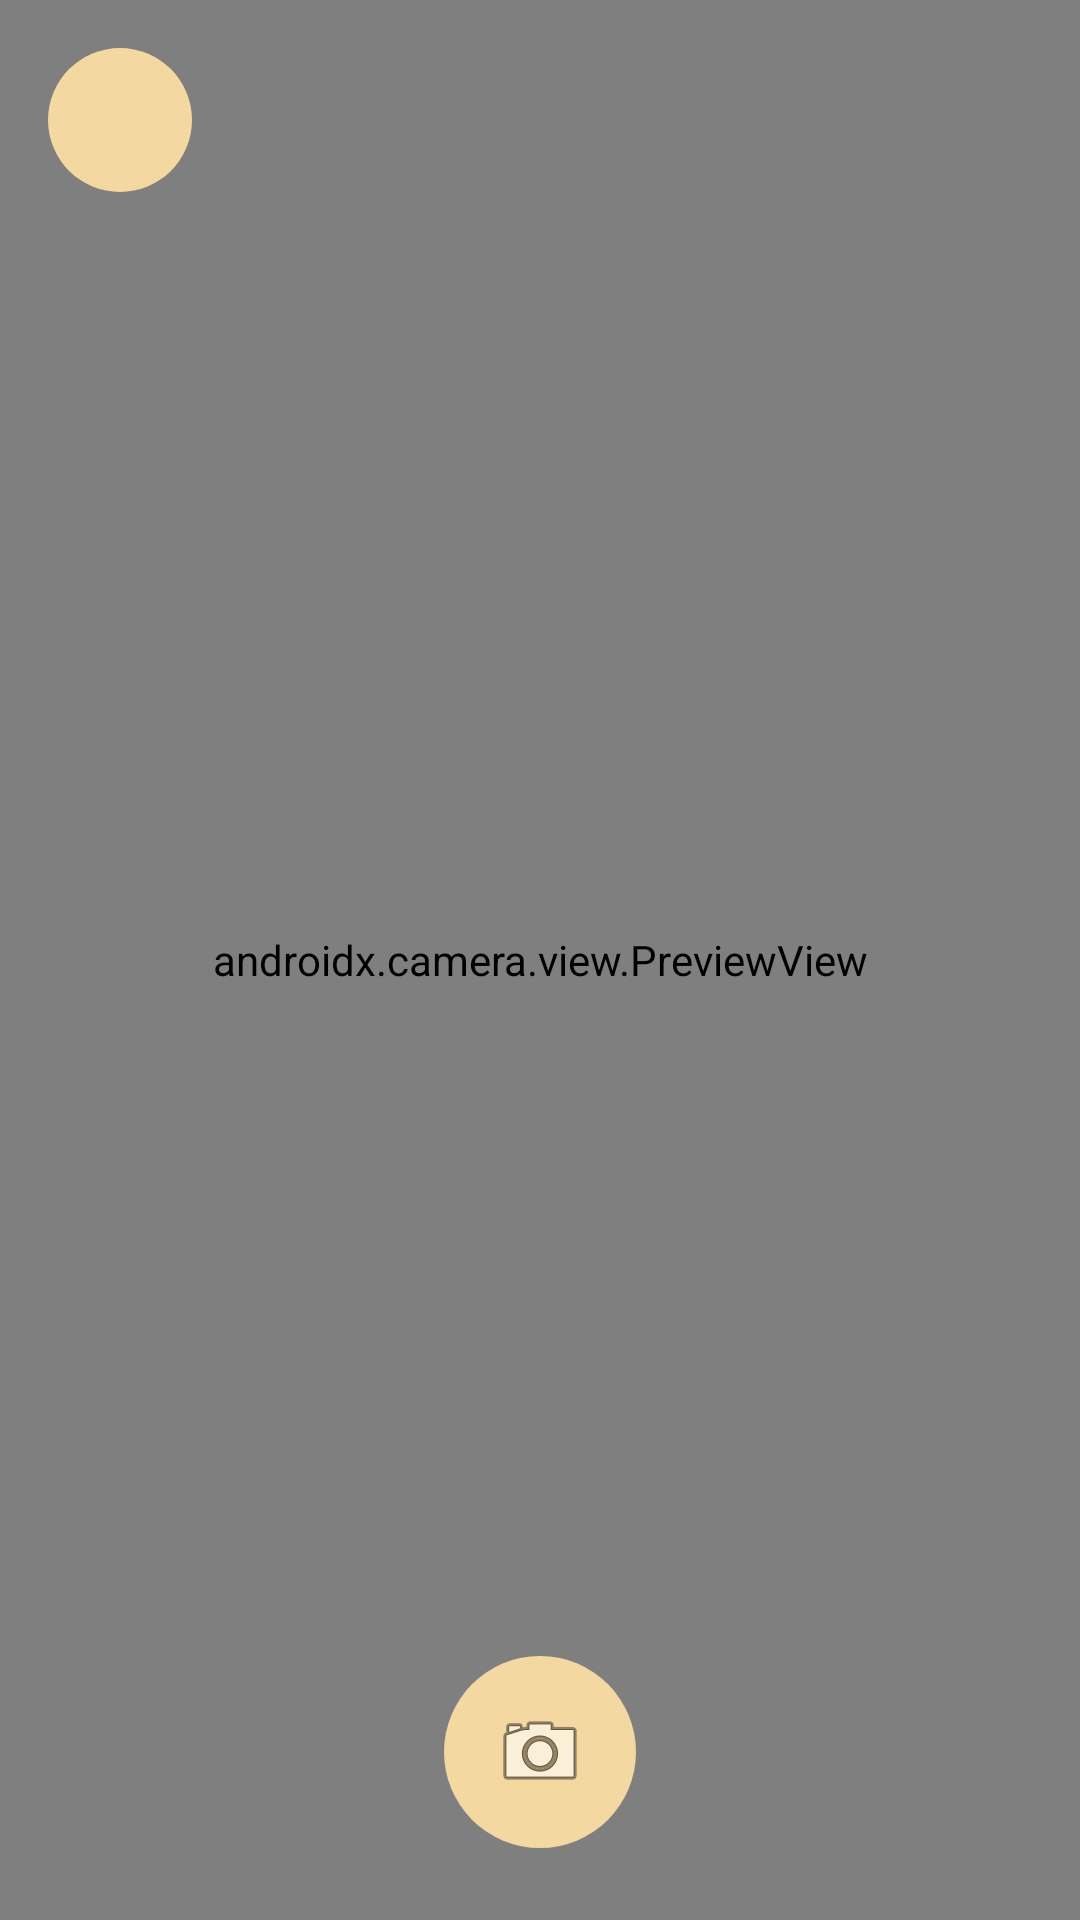

Icons on this 1080px×1920px Android screen, each with its box as (x1, y1, x2, y2):
Capture: (444, 1656, 636, 1848)
